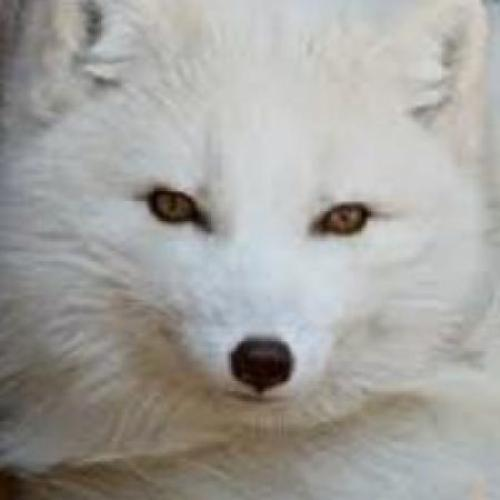arctic_fox-endangered: (22, 13, 481, 487)
